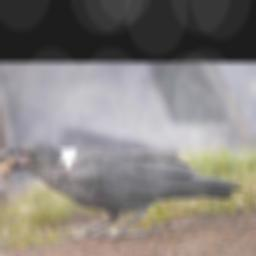Crow: (0, 138, 247, 243)
